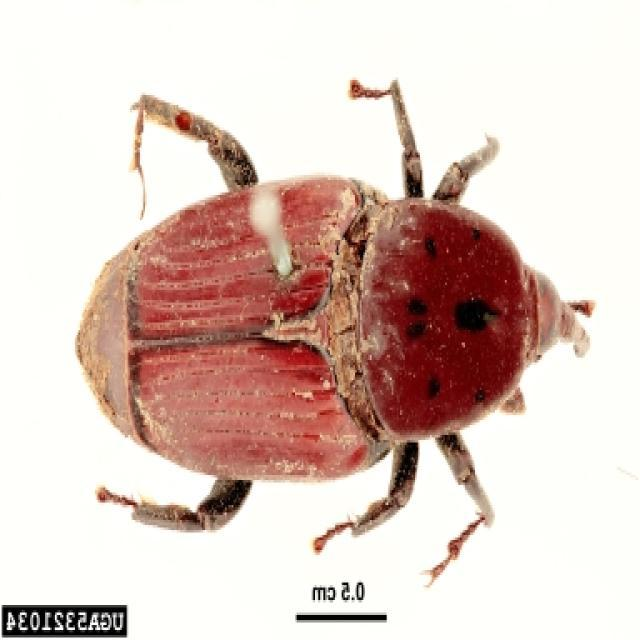Red-palm-weevil: (74, 75, 616, 567)
